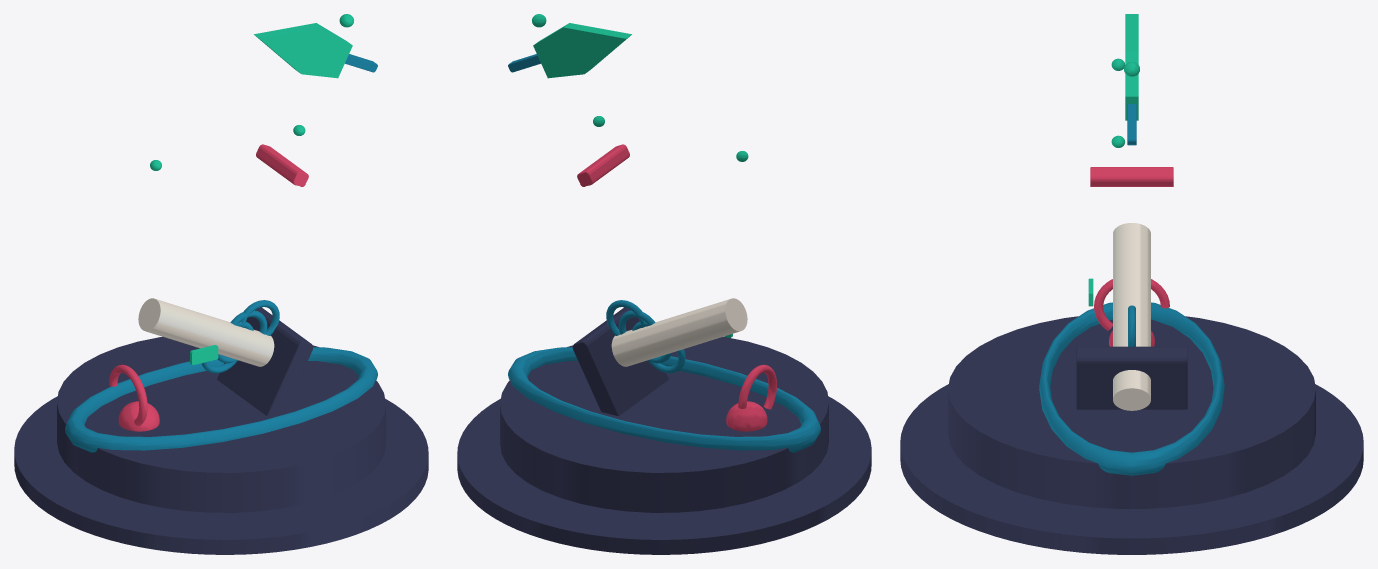
Rendered from 0449_机械图鉴_辘轳.glb.
3 renders of one model, left to right at view 1: azimuth 30°, elevation 25°; view 2: azimuth 150°, elevation 25°; view 3: azimuth 270°, elevation 25°, orthographic. The views are drawn at different scales.
Visible parts, largest first — view 1: card_0449; view 2: card_0449; view 3: card_0449.
Part boxes in pixels (bbox=[...]): card_0449: bbox=[14, 14, 428, 554]; card_0449: bbox=[457, 14, 871, 554]; card_0449: bbox=[900, 14, 1363, 554].
Bounding box in the file's own units: 0.8725 × 1 × 0.8916.
